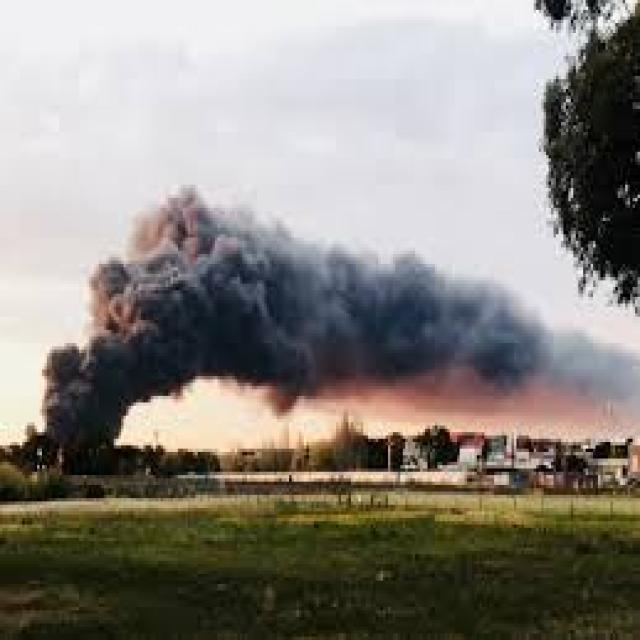smoke: (106, 216, 521, 404)
